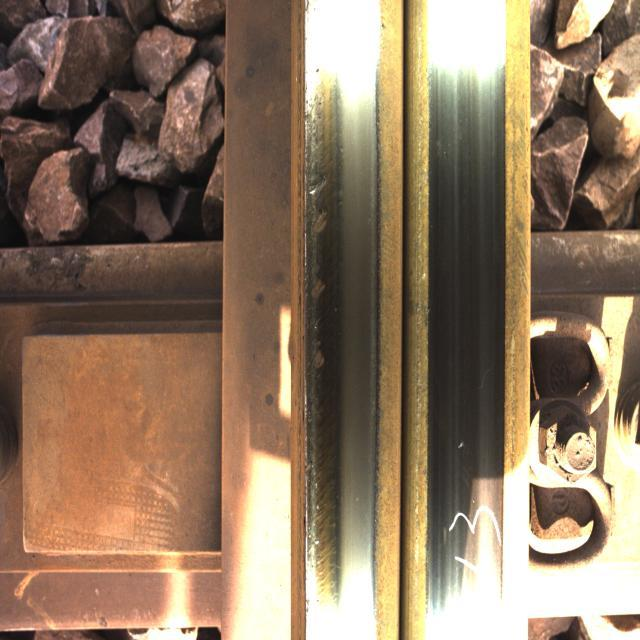crack: (298, 40, 358, 601)
